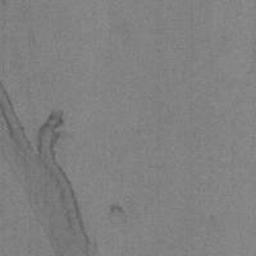Water spot: (0, 78, 101, 256), (108, 201, 129, 228)
